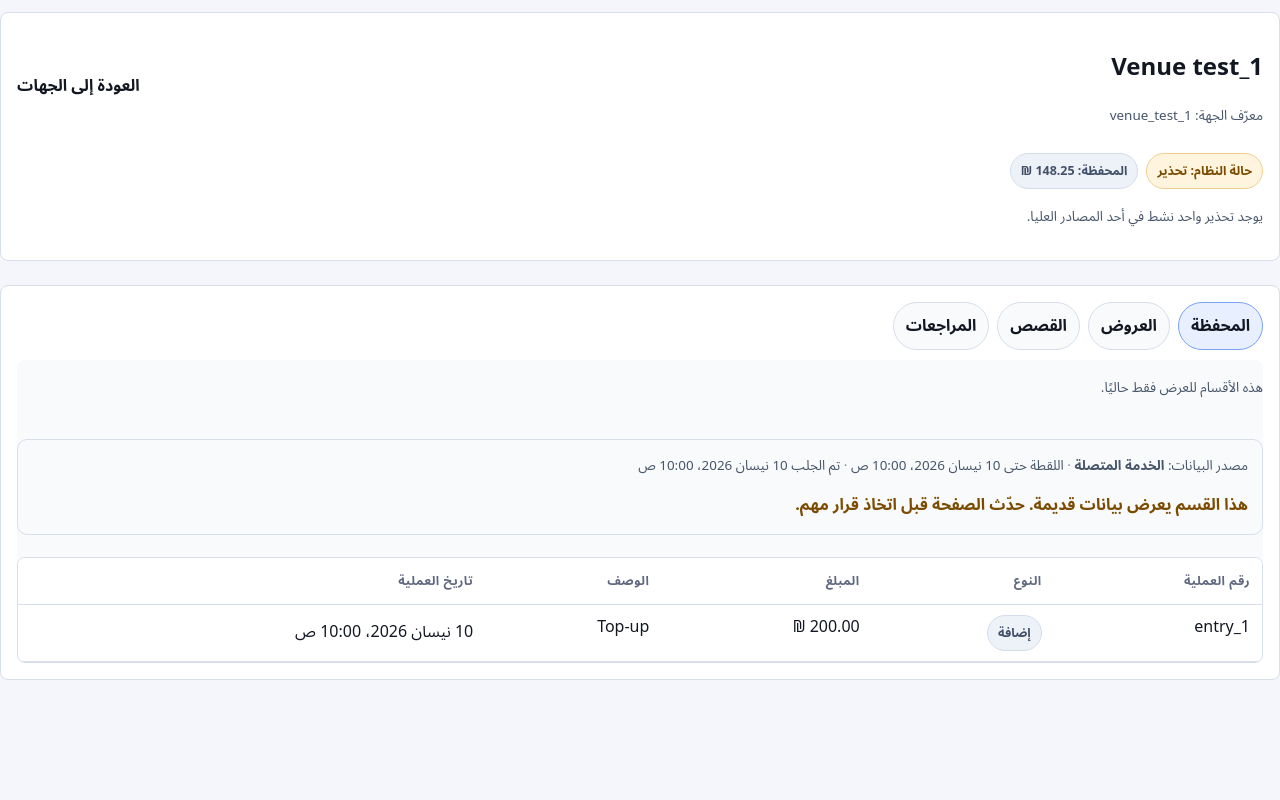
venue workspace shell › switches tabs and renders the correct read-only content
expect the panel with test id "venue-workspace-panel-wallet" is shown: met, box top-left (17, 360), bottom-right (1263, 663)
expect the text "Top-up" is shown: met, box top-left (485, 604), bottom-right (661, 662)
Click the tab with test id "venue-workspace-tab-offers" at {"x": 1129, "y": 326}, box top-left (1088, 302), bottom-right (1170, 350)
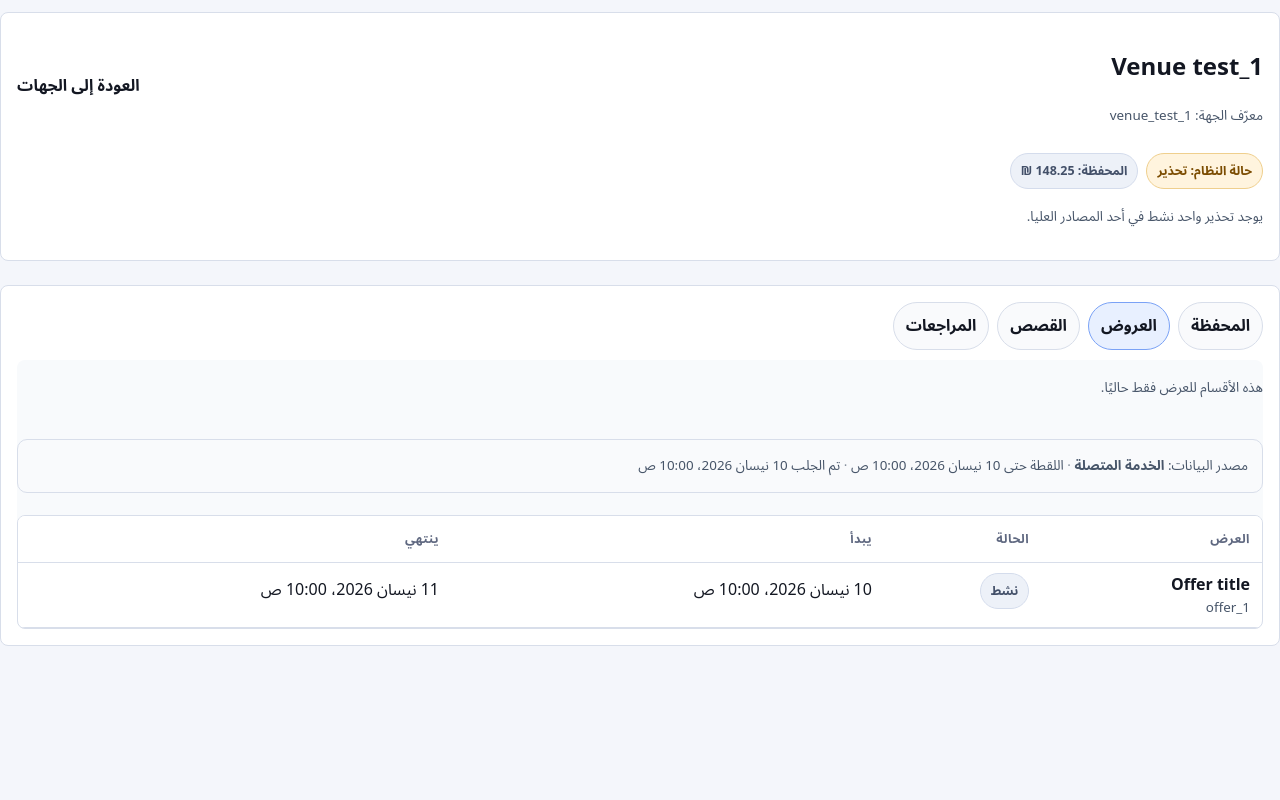
expect the panel with test id "venue-workspace-panel-offers" is shown: met, box top-left (17, 360), bottom-right (1263, 629)
expect the text "Offer title" is shown: met, box top-left (1171, 573), bottom-right (1250, 595)
Click the tab with test id "venue-workspace-tab-reviews" at {"x": 941, "y": 326}, box top-left (893, 302), bottom-right (989, 350)
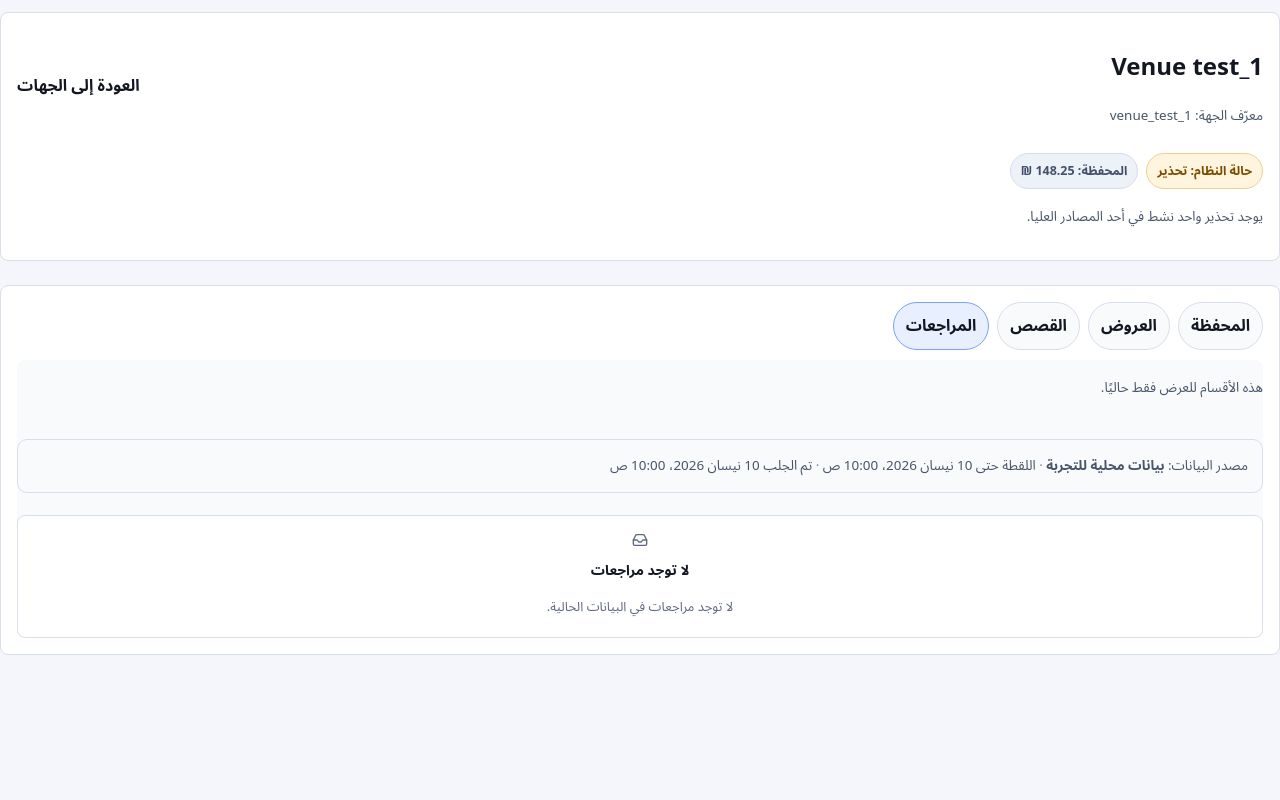
expect the panel with test id "venue-workspace-panel-reviews" is shown: met, box top-left (17, 360), bottom-right (1263, 638)
expect the element with test id "venue-tab-empty-reviews" is shown: met, box top-left (17, 515), bottom-right (1263, 638)
